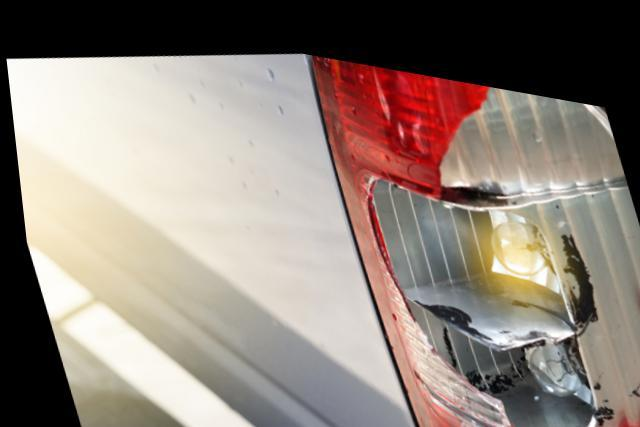lamp broken: (311, 44, 640, 427)
